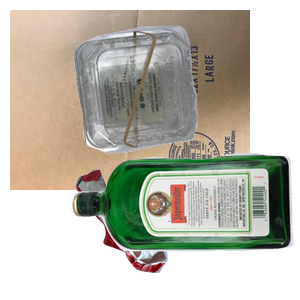cardboard: (10, 10, 250, 190)
glass: (67, 150, 300, 300)
plastic: (71, 23, 300, 169)
trash: (74, 167, 235, 300)
